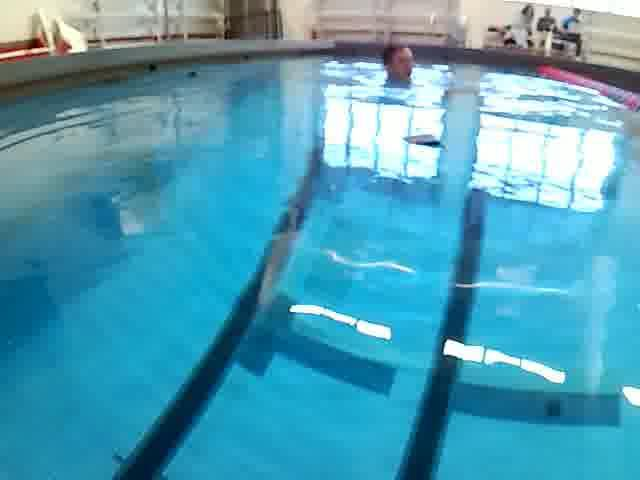CamMount: (400, 126, 448, 158)
